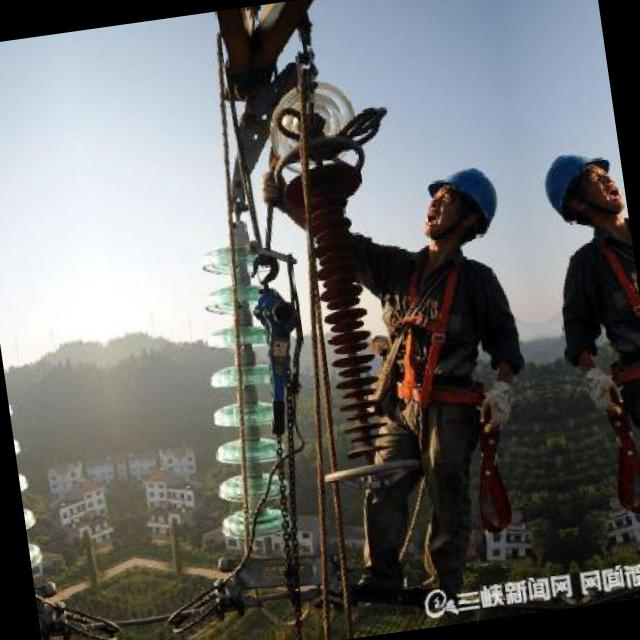helmet: (406, 146, 498, 256), (542, 126, 628, 238)
